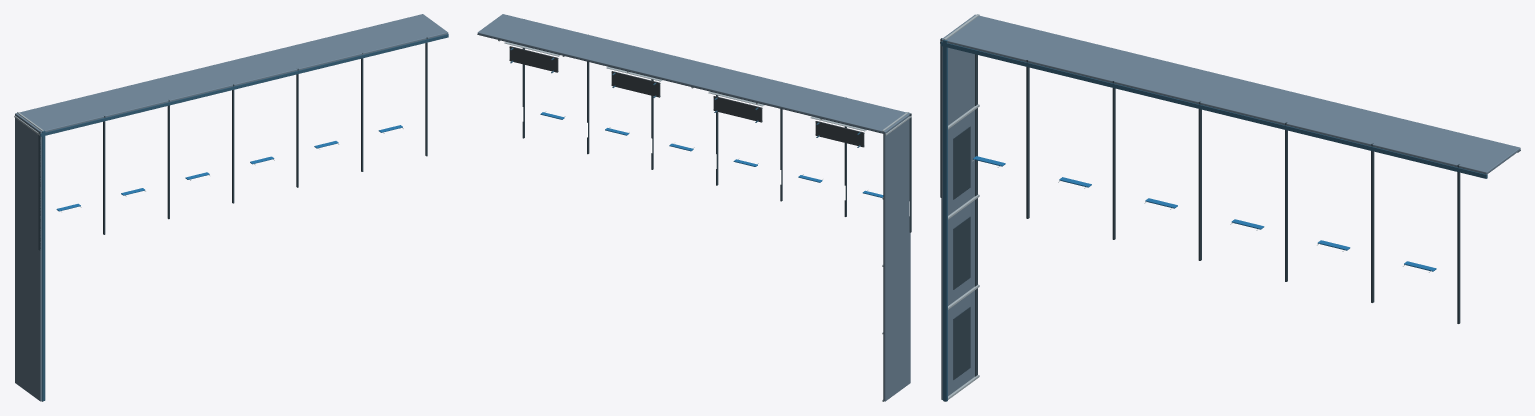
The model's file is hero_airport_shell.glb.
3 renders of one model, left to right at view 1: azimuth 30°, elevation 25°; view 2: azimuth 150°, elevation 25°; view 3: azimuth 330°, elevation 25°, orthographic. The views are drawn at different scales.
Parts seen in each view (by area): view 1: Rear wall structural base, Left wall structural base, Roof edge beam rear, Roof edge beam side; view 2: Rear wall structural base, Left wall structural base, Baggage belt upper.003, Baggage belt upper.002, Baggage belt upper, Baggage belt upper.001, Rear wall dark plinth; view 3: Rear wall structural base, Left wall structural base, Roof edge beam rear, Roof edge beam side, Wall lateral inset.001, Wall lateral inset, Wall lateral inset.002, Left wall dark plinth, Overhead beam.003, Overhead beam.002, Overhead beam.005, Overhead beam.006 (+1 smaller).
Part boxes in pixels (box(x1,y1,x2,y2)): Rear wall structural base: box(15, 14, 448, 132); Left wall structural base: box(15, 113, 41, 401); Roof edge beam rear: box(40, 34, 448, 136); Roof edge beam side: box(42, 130, 45, 401); Rear wall structural base: box(477, 14, 908, 133); Left wall structural base: box(883, 113, 910, 401); Baggage belt upper.003: box(509, 46, 558, 72); Baggage belt upper.002: box(611, 71, 660, 97); Baggage belt upper: box(815, 121, 864, 147); Baggage belt upper.001: box(713, 96, 762, 122); Rear wall dark plinth: box(477, 34, 884, 133); Rear wall structural base: box(942, 15, 1520, 174); Left wall structural base: box(941, 14, 975, 399); Roof edge beam rear: box(940, 41, 1487, 178); Roof edge beam side: box(943, 40, 947, 401); Wall lateral inset.001: box(953, 216, 970, 289); Wall lateral inset: box(953, 306, 970, 379); Wall lateral inset.002: box(953, 126, 970, 199); Left wall dark plinth: box(975, 54, 977, 376); Overhead beam.003: box(1198, 101, 1201, 260); Overhead beam.002: box(1112, 81, 1115, 239); Overhead beam.005: box(1371, 143, 1374, 302); Overhead beam.006: box(1457, 164, 1460, 323).
Bounding box in the file's own units: 76.14 × 48.28 × 8.29.
